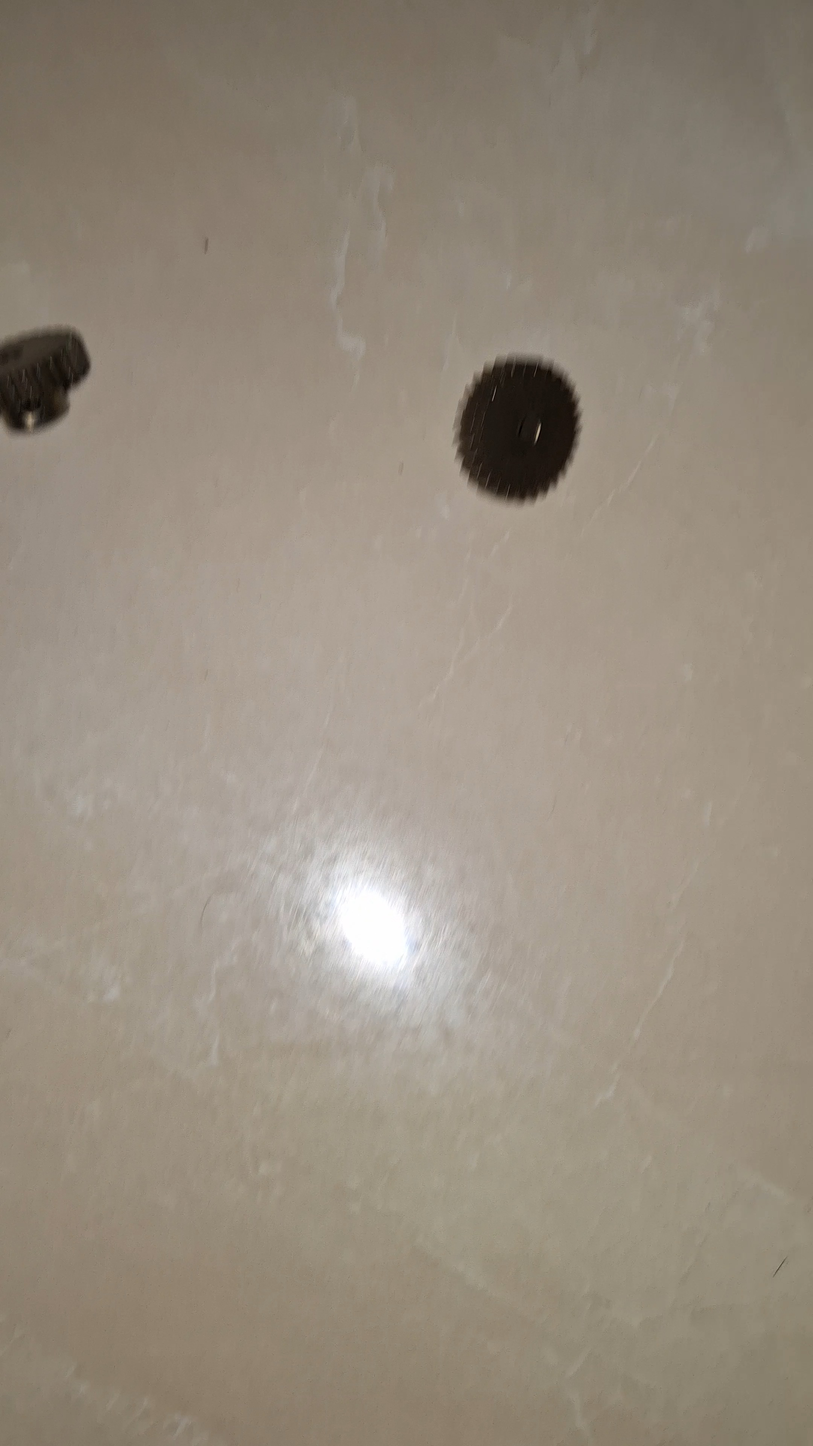spur gear: (457, 358, 579, 500), (0, 328, 90, 433)
